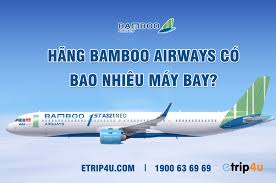maybay_dansu: (11, 73, 275, 149)
